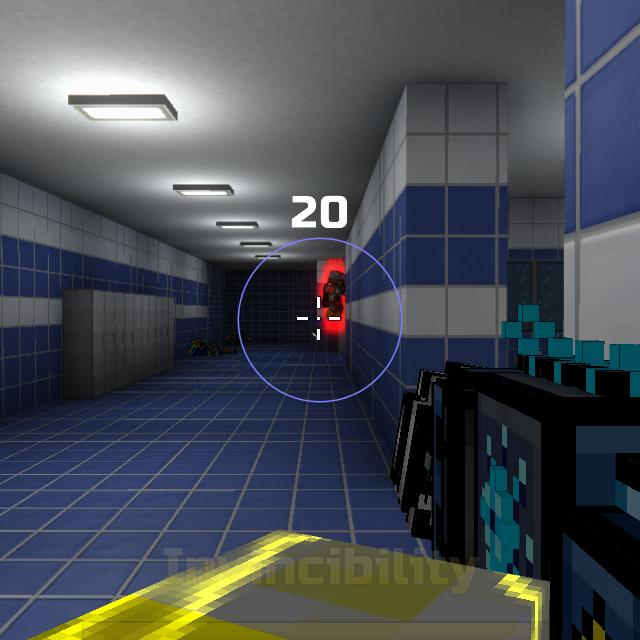Enemy: (324, 270, 346, 318)
